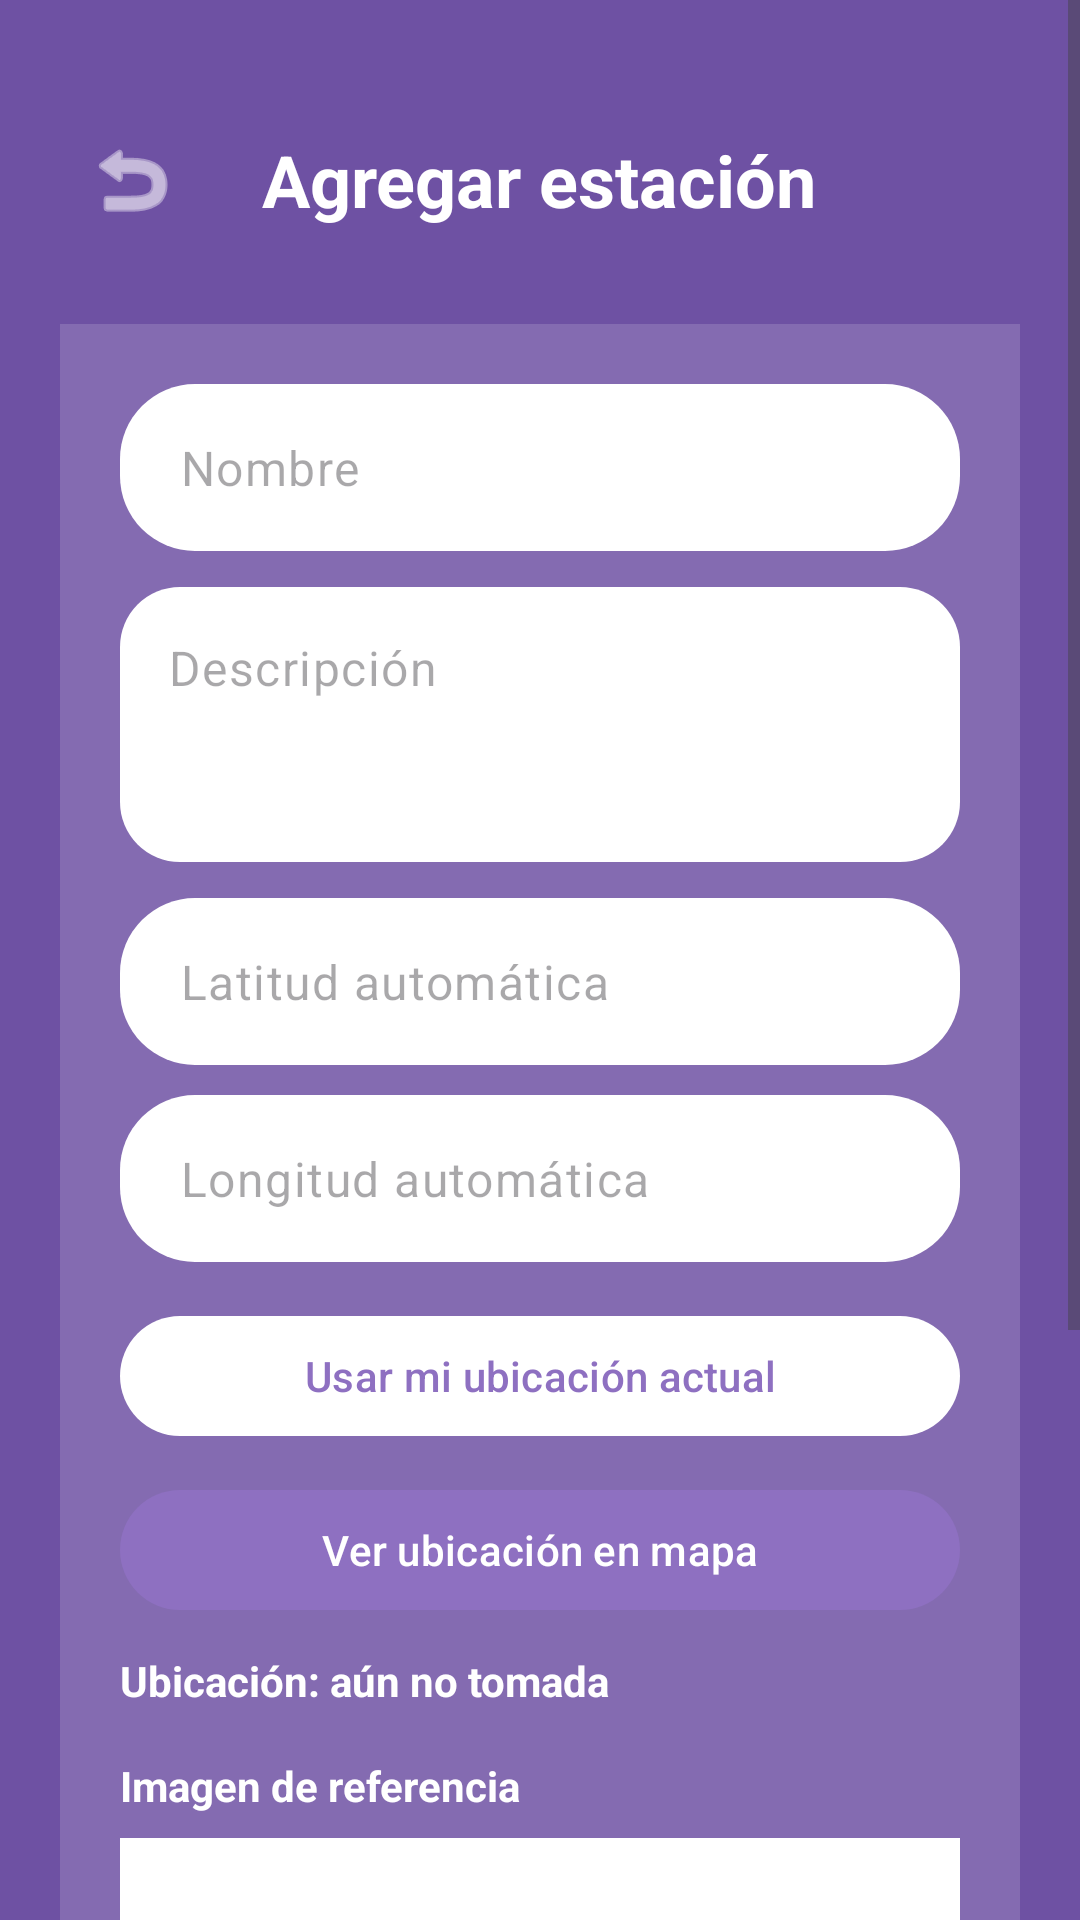

Named icons in this screenshot (1080 x 1920) and their centers, point (x, y):
Regresar: point (133, 180)
